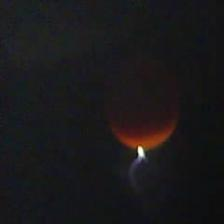fertile: (98, 50, 184, 152)
